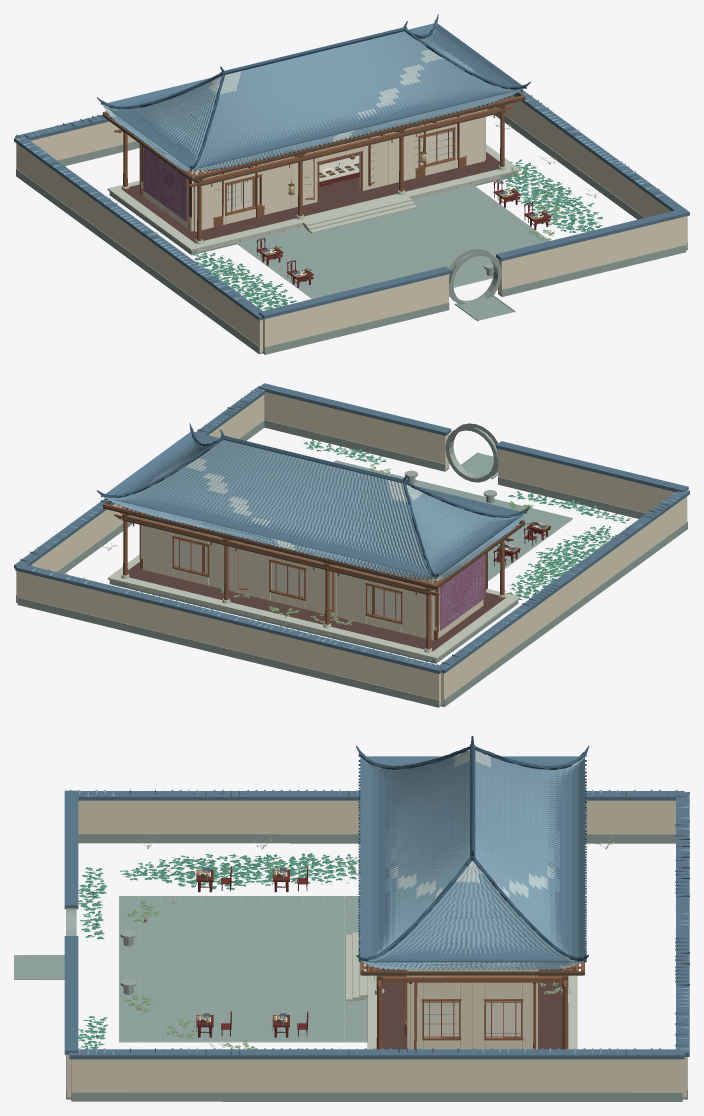
The model's file is qiushuangzhai.glb.
The picture shows the model from 3 angles, top to bottom: view 1: azimuth 30°, elevation 25°; view 2: azimuth 150°, elevation 25°; view 3: azimuth 270°, elevation 25°; orthographic projection. The views are drawn at different scales.
Visible parts, largest first — view 1: r15_qiushuangzhai_Sunwen_r18_study_tile.001, r15_qiushuangzhai_Sunwen_r18_study_plaster.001, r15_qiushuangzhai_Sunwen_r18_study_roof.001, Mobile_qiushuangzhai_paving, r15_qiushuangzhai_Sunwen_r18_study_plaster.003, r15_qiushuangzhai_Sunwen_r18_study_stone.001, r15_qiushuangzhai_Sunwen_r18_study_wood.001, r15_qiushuangzhai_Sunwen_r18_study_cutstone.001, Mobile_qiushuangzhai_floorwood, Mobile_qiushuangzhai_botanical_bamboo, r15_qiushuangzhai_Sunwen_r18_study_darkwood.001, r15_qiushuangzhai_Sunwen_r18_study_tiledark.001 (+8 smaller); view 2: r15_qiushuangzhai_Sunwen_r18_study_plaster.001, r15_qiushuangzhai_Sunwen_r18_study_tile.001, r15_qiushuangzhai_Sunwen_r18_study_roof.001, r15_qiushuangzhai_Sunwen_r18_study_stone.001, r15_qiushuangzhai_Sunwen_r18_study_plaster.003, r15_qiushuangzhai_Sunwen_r18_study_wood.001, r15_qiushuangzhai_Sunwen_r18_study_cutstone.001, Mobile_qiushuangzhai_floorwood, Mobile_qiushuangzhai_botanical_bamboo, r15_qiushuangzhai_Sunwen_r18_study_darkwood.001, Mobile_qiushuangzhai_paving, r15_qiushuangzhai_Sunwen_r18_study_tiledark.001 (+6 smaller); view 3: Mobile_qiushuangzhai_paving, r15_qiushuangzhai_Sunwen_r18_study_roof.001, r15_qiushuangzhai_Sunwen_r18_study_plaster.001, r15_qiushuangzhai_Sunwen_r18_study_tile.001, r15_qiushuangzhai_Sunwen_r18_study_stone.001, r15_qiushuangzhai_Sunwen_r18_study_plaster.003, Mobile_qiushuangzhai_botanical_bamboo, r15_qiushuangzhai_Sunwen_r18_study_wood.001, r15_qiushuangzhai_Sunwen_r18_study_tiledark.001, Mobile_qiushuangzhai_floorwood, Mobile_qiushuangzhai_courtbase, r15_qiushuangzhai_Sunwen_r18_study_cutstone.001 (+5 smaller).
Boxes of the visible parts, bbox=[...] form: r15_qiushuangzhai_Sunwen_r18_study_tile.001: bbox=[16, 28, 681, 316]; r15_qiushuangzhai_Sunwen_r18_study_plaster.001: bbox=[16, 95, 687, 352]; r15_qiushuangzhai_Sunwen_r18_study_roof.001: bbox=[14, 23, 689, 320]; Mobile_qiushuangzhai_paving: bbox=[237, 185, 548, 320]; r15_qiushuangzhai_Sunwen_r18_study_plaster.003: bbox=[142, 104, 485, 231]; r15_qiushuangzhai_Sunwen_r18_study_stone.001: bbox=[16, 107, 687, 354]; r15_qiushuangzhai_Sunwen_r18_study_wood.001: bbox=[103, 95, 545, 271]; r15_qiushuangzhai_Sunwen_r18_study_cutstone.001: bbox=[107, 144, 520, 252]; Mobile_qiushuangzhai_floorwood: bbox=[122, 152, 499, 241]; Mobile_qiushuangzhai_botanical_bamboo: bbox=[193, 159, 603, 310]; r15_qiushuangzhai_Sunwen_r18_study_darkwood.001: bbox=[102, 92, 549, 283]; r15_qiushuangzhai_Sunwen_r18_study_tiledark.001: bbox=[97, 14, 530, 171]; r15_qiushuangzhai_Sunwen_r18_study_plaster.001: bbox=[16, 392, 687, 705]; r15_qiushuangzhai_Sunwen_r18_study_tile.001: bbox=[20, 386, 689, 670]; r15_qiushuangzhai_Sunwen_r18_study_roof.001: bbox=[14, 383, 689, 673]; r15_qiushuangzhai_Sunwen_r18_study_stone.001: bbox=[16, 420, 687, 707]; r15_qiushuangzhai_Sunwen_r18_study_plaster.003: bbox=[143, 515, 483, 640]; r15_qiushuangzhai_Sunwen_r18_study_wood.001: bbox=[103, 503, 533, 649]; r15_qiushuangzhai_Sunwen_r18_study_cutstone.001: bbox=[107, 554, 520, 660]; Mobile_qiushuangzhai_floorwood: bbox=[128, 562, 505, 650]; Mobile_qiushuangzhai_botanical_bamboo: bbox=[304, 439, 630, 599]; r15_qiushuangzhai_Sunwen_r18_study_darkwood.001: bbox=[102, 500, 550, 651]; Mobile_qiushuangzhai_paving: bbox=[334, 453, 572, 579]; r15_qiushuangzhai_Sunwen_r18_study_tiledark.001: bbox=[97, 423, 530, 579]; Mobile_qiushuangzhai_paving: bbox=[14, 896, 367, 1041]; r15_qiushuangzhai_Sunwen_r18_study_roof.001: bbox=[64, 756, 689, 1059]; r15_qiushuangzhai_Sunwen_r18_study_plaster.001: bbox=[66, 800, 687, 1097]; r15_qiushuangzhai_Sunwen_r18_study_tile.001: bbox=[70, 753, 689, 1054]; r15_qiushuangzhai_Sunwen_r18_study_stone.001: bbox=[14, 834, 687, 1101]; r15_qiushuangzhai_Sunwen_r18_study_plaster.003: bbox=[407, 962, 537, 1049]; Mobile_qiushuangzhai_botanical_bamboo: bbox=[78, 853, 360, 1049]; r15_qiushuangzhai_Sunwen_r18_study_wood.001: bbox=[205, 873, 584, 1049]; r15_qiushuangzhai_Sunwen_r18_study_tiledark.001: bbox=[356, 736, 588, 962]; Mobile_qiushuangzhai_floorwood: bbox=[382, 964, 562, 1049]; Mobile_qiushuangzhai_courtbase: bbox=[119, 896, 367, 1041]; r15_qiushuangzhai_Sunwen_r18_study_cutstone.001: bbox=[345, 932, 577, 1049].
Size of the model in its own units: 32.76 by 10.52 by 35.38.
